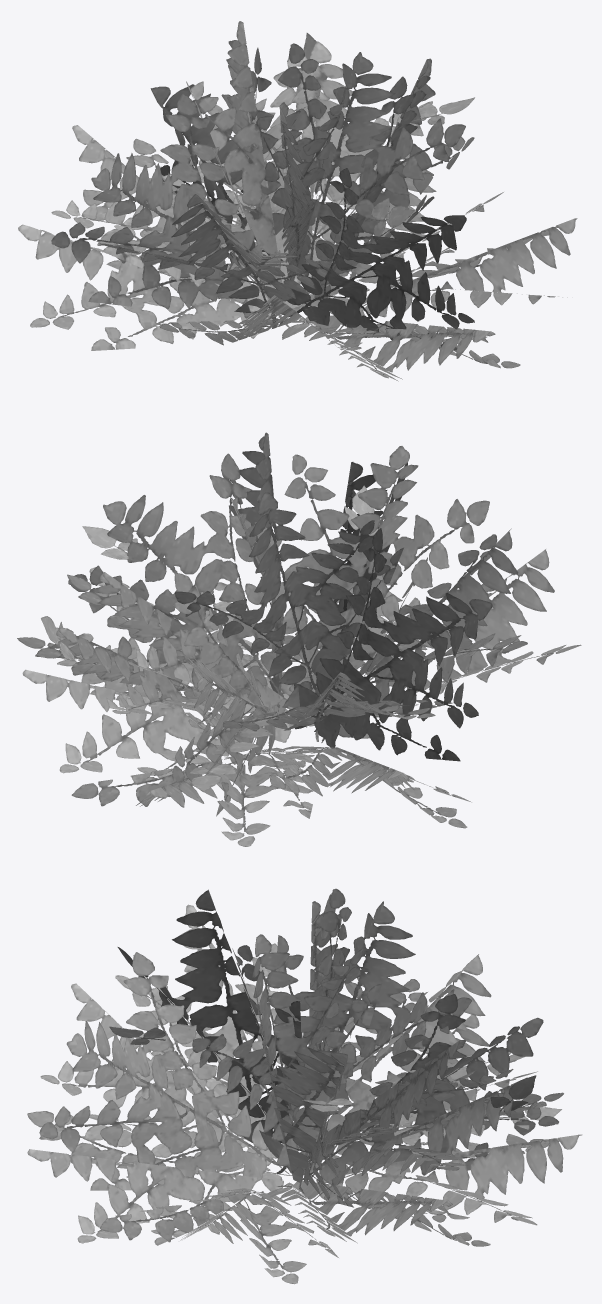
Rendered from Bushes plant.fbx.
The picture shows the model from 3 angles, top to bottom: view 1: azimuth 30°, elevation 25°; view 2: azimuth 150°, elevation 25°; view 3: azimuth 270°, elevation 25°; orthographic projection. The views are drawn at different scales.
Visible parts, largest first — view 1: BUSH_1__17_.001; view 2: BUSH_1__17_.001; view 3: BUSH_1__17_.001.
Boxes of the visible parts, left/top/right/bottom form: BUSH_1__17_.001: left=18, top=21, right=577, bottom=381; BUSH_1__17_.001: left=17, top=432, right=581, bottom=846; BUSH_1__17_.001: left=27, top=888, right=582, bottom=1284.
Size of the model in its own units: 310 by 187 by 328.
1 material, 1 textured.
